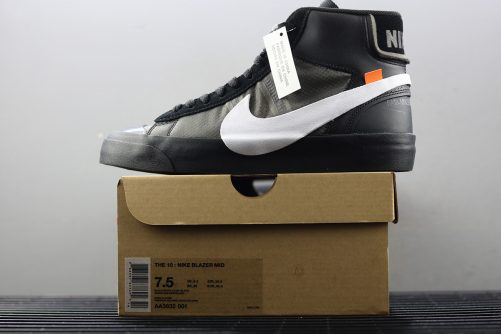Nike Blazer Grim Reaper: (90, 1, 430, 180)
